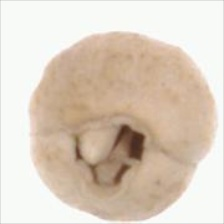L3: (70, 119, 146, 187)
L4: (27, 30, 217, 220)
